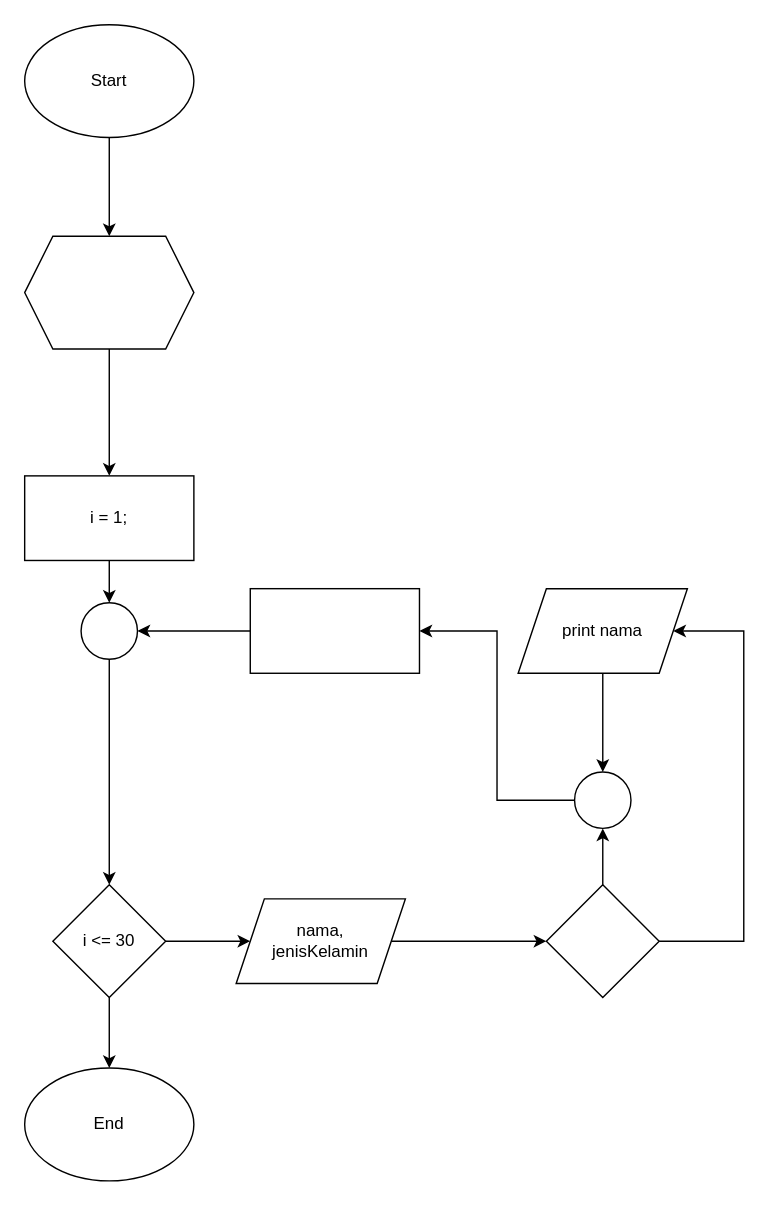
This 780x1206 diagram has some shape labels left out. The centre of each missing label's shape, as x and y in pixels:
i++: (334,630)
jenisKelamin == 'P': (602,940)
String nama; char jenisKelamin; int i;: (108,292)
